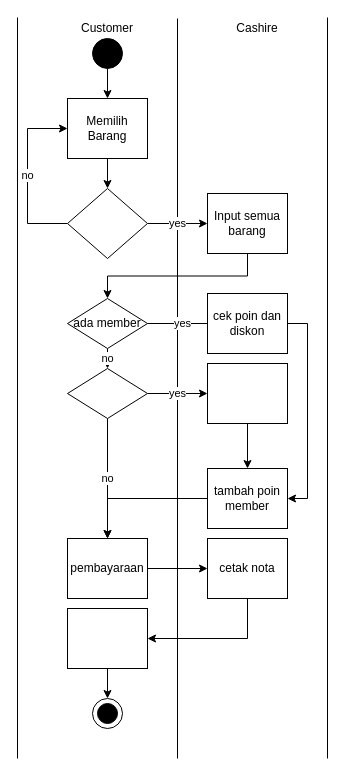
The diagram is 346 pixels wide and 777 high, and some of its shapes have lost their labels. The centre of each missing label's shape, as x and y in pixels:
"daftar member" goes at point 107,393.
"input data member baru" goes at point 247,393.
"Selesai berbelanja" goes at point 107,223.
"terima nota" goes at point 107,638.
